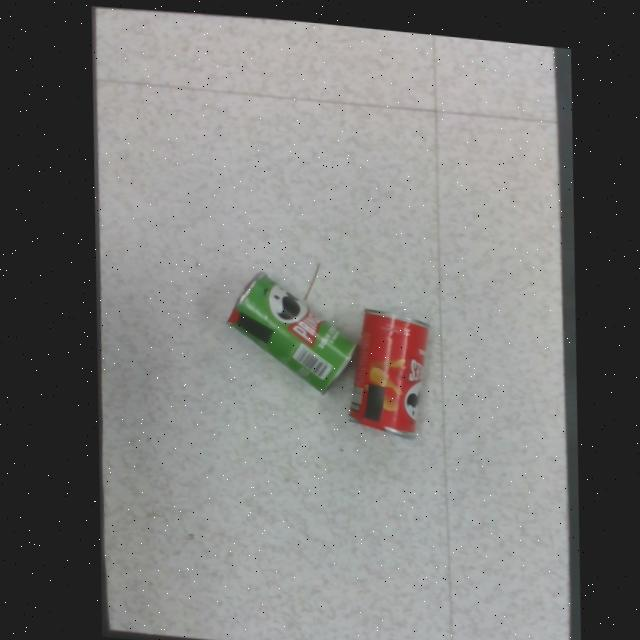canSnack: (224, 267, 352, 387), (345, 304, 425, 432)
